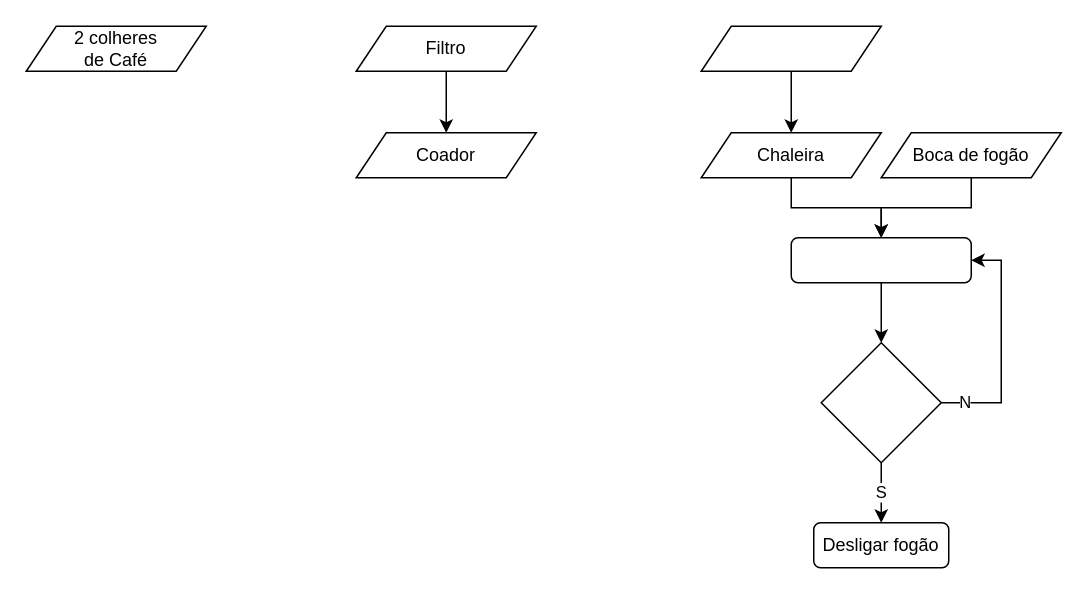
The diagram is 1088 pixels wide and 594 high, and some of its shapes have lost their labels. Here are the shapes that lost their labels. From the top down, the centre of each, then its label:
At pixel 790 48: "1 L de água".
At pixel 880 259: "Aquecer água".
At pixel 880 402: "Chaleira apitou?".
